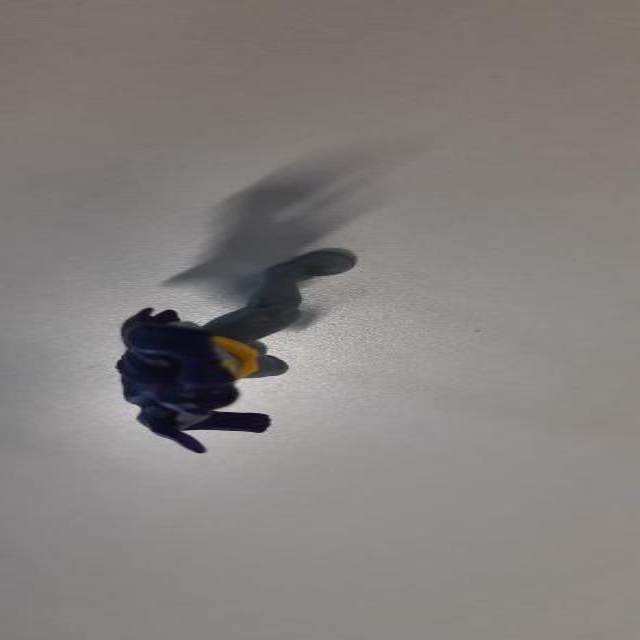Batman: (105, 248, 368, 460)
